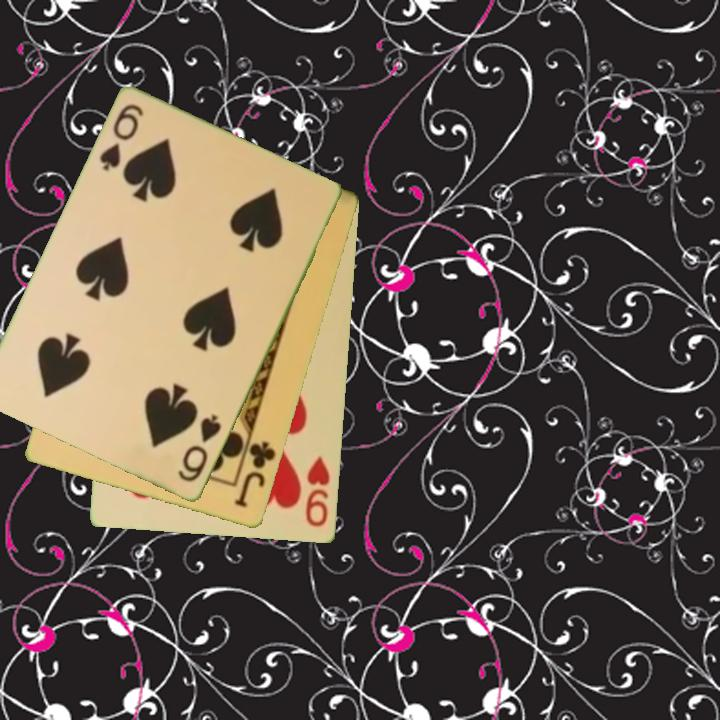6s: (174, 411, 225, 486), (96, 100, 147, 175)
9h: (302, 453, 333, 530)
Jc: (231, 430, 279, 511)
